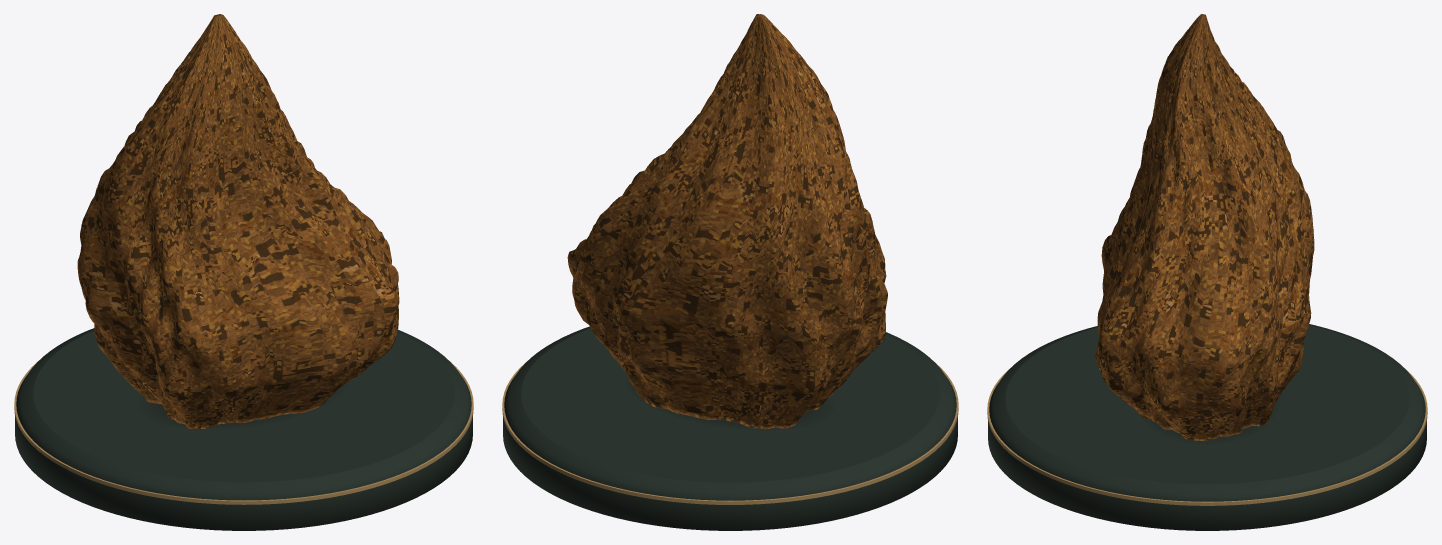
Rendered from lingstone-concept-01-v191-d14e609878a6.glb.
The picture shows the model from 3 angles, left to right: view 1: azimuth 30°, elevation 25°; view 2: azimuth 150°, elevation 25°; view 3: azimuth 270°, elevation 25°; orthographic projection. The views are drawn at different scales.
Visible parts, largest first — view 1: XY-CONCEPT-001 concept stone, Centered beveled display plinth, Champagne gold edge; view 2: XY-CONCEPT-001 concept stone, Centered beveled display plinth, Champagne gold edge; view 3: XY-CONCEPT-001 concept stone, Centered beveled display plinth, Champagne gold edge.
Part boxes in pixels (x1,y1,x2,y2): XY-CONCEPT-001 concept stone: (77,14,399,428); Centered beveled display plinth: (15,328,472,530); Champagne gold edge: (14,361,473,504); XY-CONCEPT-001 concept stone: (567,14,887,429); Centered beveled display plinth: (503,326,957,530); Champagne gold edge: (502,362,958,504); XY-CONCEPT-001 concept stone: (1095,14,1314,440); Centered beveled display plinth: (988,324,1426,530); Champagne gold edge: (987,369,1427,505).
Bounding box in the file's own units: 1.78 × 1.85 × 1.78.
Materials: 4 (1 with a texture image).
